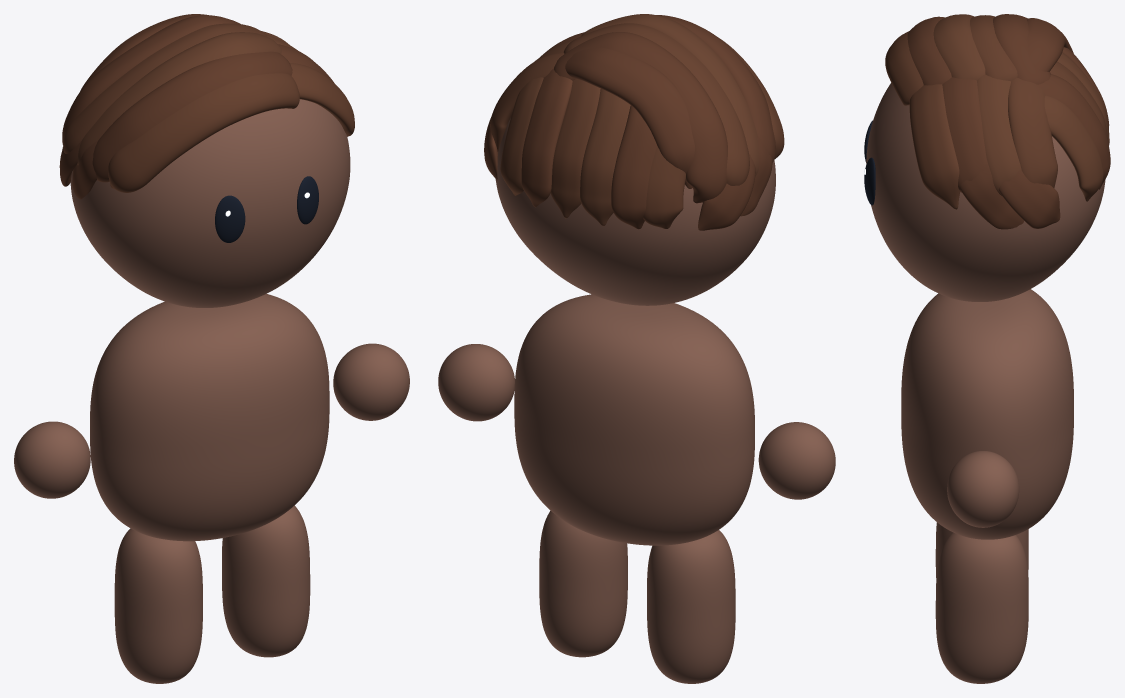
The model's file is Masculine-skin3.glb.
3 renders of one model, left to right at view 1: azimuth 30°, elevation 25°; view 2: azimuth 150°, elevation 25°; view 3: azimuth 270°, elevation 25°, orthographic.
Parts seen in each view (by area): view 1: Skin / compact torso, Skin / soft oval head, Skin / leg -1, Skin / leg 1, Hair / Side part main 0, Hair / Side part main 1, Skin / hand -1, Skin / hand 1, Hair / Side part main 2, Hair / Side part main 3, Hair / Side part main 4, Hair / Side part short 0 (+4 smaller); view 2: Skin / compact torso, Skin / soft oval head, Skin / leg -1, Skin / leg 1, Hair / Side part crown, Hair / Side part main 4, Skin / hand -1, Skin / hand 1, Hair / Side part nape 2, Hair / Side part nape 4, Hair / Side part main 3, Hair / Side part nape 3 (+9 smaller); view 3: Skin / compact torso, Skin / soft oval head, Skin / leg 1, Skin / hand 1, Hair / Side part short 0, Hair / Side part short 3, Hair / Side part short 1, Hair / Side part short 2, Hair / Side part nape 5, Hair / Side part main 2, Hair / Side part low 1 1, Hair / Side part main 4 (+10 smaller).
Part boxes in pixels (bbox=[...]): Skin / compact torso: bbox=[90, 294, 329, 541]; Skin / soft oval head: bbox=[70, 99, 350, 307]; Skin / leg -1: bbox=[114, 528, 202, 683]; Skin / leg 1: bbox=[222, 505, 310, 657]; Hair / Side part main 0: bbox=[108, 73, 299, 192]; Hair / Side part main 1: bbox=[92, 51, 292, 182]; Skin / hand -1: bbox=[14, 421, 90, 498]; Skin / hand 1: bbox=[333, 343, 409, 420]; Hair / Side part main 2: bbox=[77, 32, 281, 165]; Hair / Side part main 3: bbox=[63, 23, 266, 153]; Hair / Side part main 4: bbox=[62, 15, 240, 145]; Hair / Side part short 0: bbox=[290, 63, 354, 136]; Skin / compact torso: bbox=[514, 294, 754, 545]; Skin / soft oval head: bbox=[495, 118, 775, 305]; Skin / leg -1: bbox=[647, 530, 735, 683]; Skin / leg 1: bbox=[539, 511, 627, 657]; Hair / Side part crown: bbox=[565, 47, 694, 188]; Hair / Side part main 4: bbox=[554, 32, 727, 203]; Skin / hand -1: bbox=[758, 422, 835, 499]; Skin / hand 1: bbox=[438, 344, 514, 421]; Hair / Side part nape 2: bbox=[580, 88, 630, 226]; Hair / Side part nape 4: bbox=[521, 68, 572, 207]; Hair / Side part main 3: bbox=[563, 23, 749, 185]; Hair / Side part nape 3: bbox=[550, 79, 600, 218]; Skin / compact torso: bbox=[901, 289, 1073, 539]; Skin / soft oval head: bbox=[866, 83, 1105, 301]; Skin / leg 1: bbox=[935, 532, 1028, 683]; Skin / hand 1: bbox=[947, 451, 1019, 527]; Hair / Side part short 0: bbox=[909, 84, 960, 209]; Hair / Side part short 3: bbox=[1008, 77, 1057, 187]; Hair / Side part short 1: bbox=[942, 77, 986, 192]; Hair / Side part short 2: bbox=[977, 74, 1021, 195]; Hair / Side part nape 5: bbox=[1044, 95, 1103, 201]; Hair / Side part main 2: bbox=[933, 14, 985, 80]; Hair / Side part low 1 1: bbox=[999, 170, 1060, 228]; Hair / Side part main 4: bbox=[993, 14, 1050, 84].
Bounding box in the file's own units: 1.49 × 2.34 × 0.8319.
